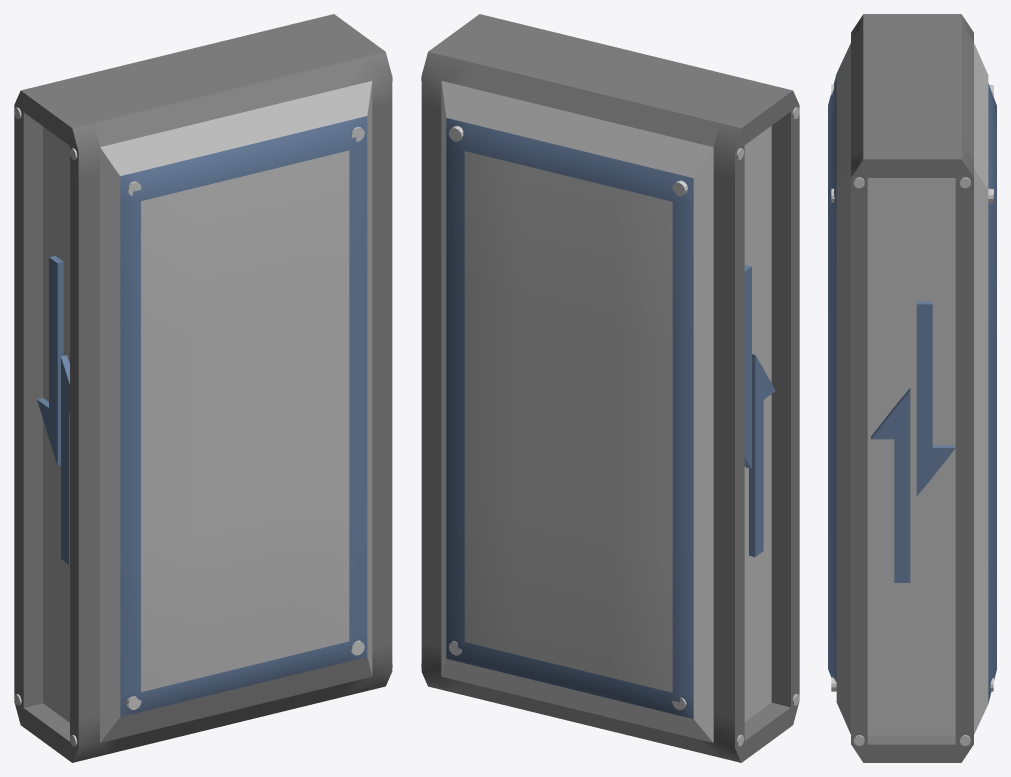
The model's file is Movable box.fbx.
3 views of the same model, side by side, from view 1: azimuth 30°, elevation 25°; view 2: azimuth 150°, elevation 25°; view 3: azimuth 270°, elevation 25° (orthographic). The views are drawn at different scales.
Visible parts, largest first — view 1: Movable_box; view 2: Movable_box; view 3: Movable_box.
Boxes of the visible parts, x1,y1,x2,y2 form: Movable_box: (14, 14, 392, 762); Movable_box: (421, 14, 799, 762); Movable_box: (828, 14, 996, 762).
Size of the model in its own units: 21.74 by 41.59 by 10.55.
